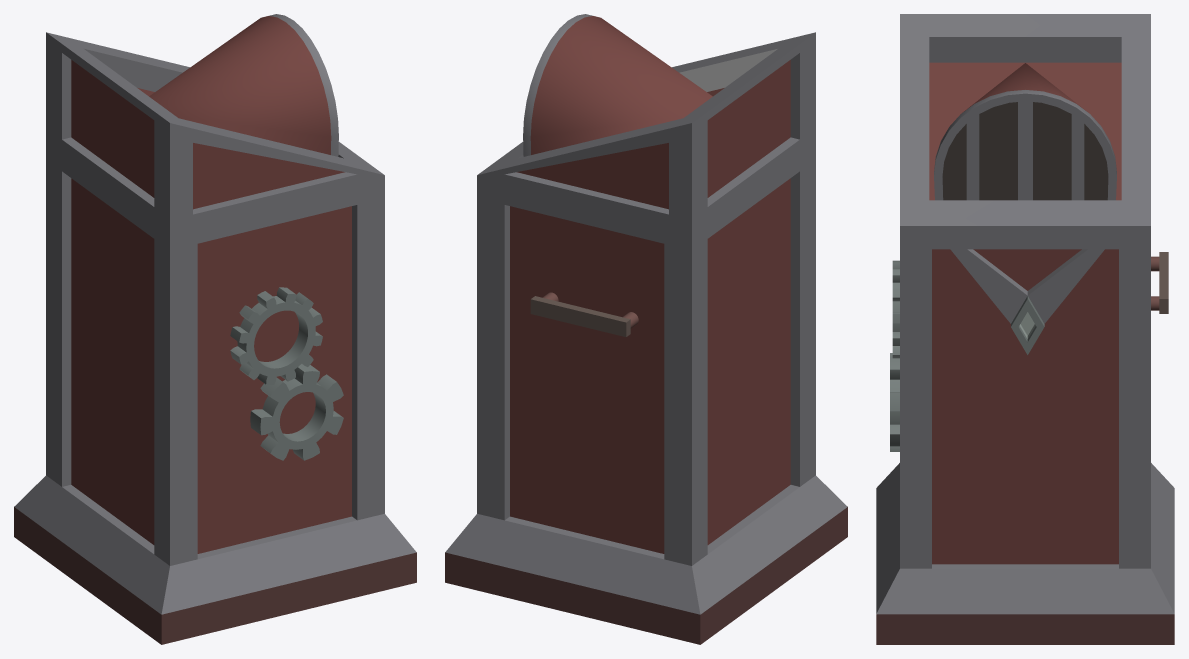
Rendered from trashcan_v2.fbx.
The picture shows the model from 3 angles, left to right: view 1: azimuth 30°, elevation 25°; view 2: azimuth 150°, elevation 25°; view 3: azimuth 270°, elevation 25°; orthographic projection.
Visible parts, largest first — view 1: trashcan; view 2: trashcan; view 3: trashcan.
Boxes of the visible parts, left/top/right/bottom form: trashcan: left=14, top=14, right=416, bottom=644; trashcan: left=445, top=14, right=847, bottom=644; trashcan: left=876, top=14, right=1174, bottom=644.
Bounding box in the file's own units: 86.16 × 168 × 86.16.
Materials: 1 (1 with a texture image).
